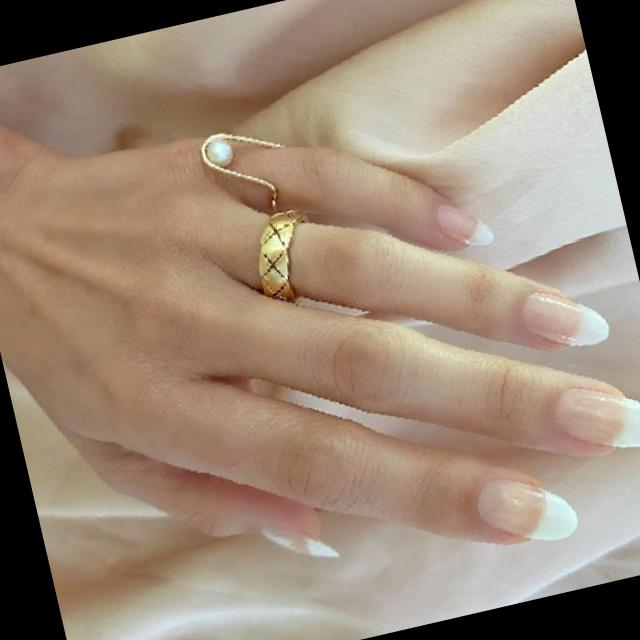Nail: (475, 478, 576, 539), (557, 387, 640, 447), (524, 292, 608, 346), (436, 205, 492, 244), (267, 531, 337, 555)
